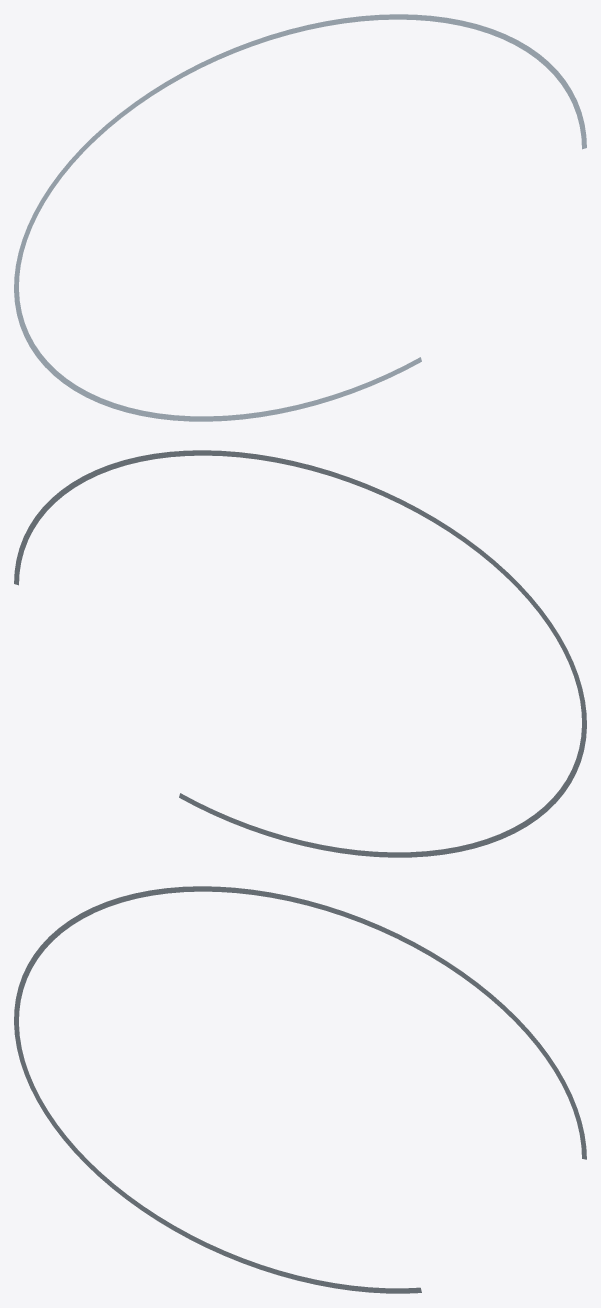
Rendered from 2083_PrimordialShower_Cryo_Counter_AncientCurvedGlyph_2.fbx.
The picture shows the model from 3 angles, top to bottom: view 1: azimuth 30°, elevation 25°; view 2: azimuth 150°, elevation 25°; view 3: azimuth 330°, elevation 25°; orthographic projection.
Visible parts, largest first — view 1: PART_AncientCurvedGlyph_2; view 2: PART_AncientCurvedGlyph_2; view 3: PART_AncientCurvedGlyph_2.
Part boxes in pixels (x1,y1,x2,y2): PART_AncientCurvedGlyph_2: (14, 14, 586, 421); PART_AncientCurvedGlyph_2: (14, 450, 586, 857); PART_AncientCurvedGlyph_2: (14, 886, 586, 1293).
Bounding box in the file's own units: 807 × 515 × 8.39e-05.
